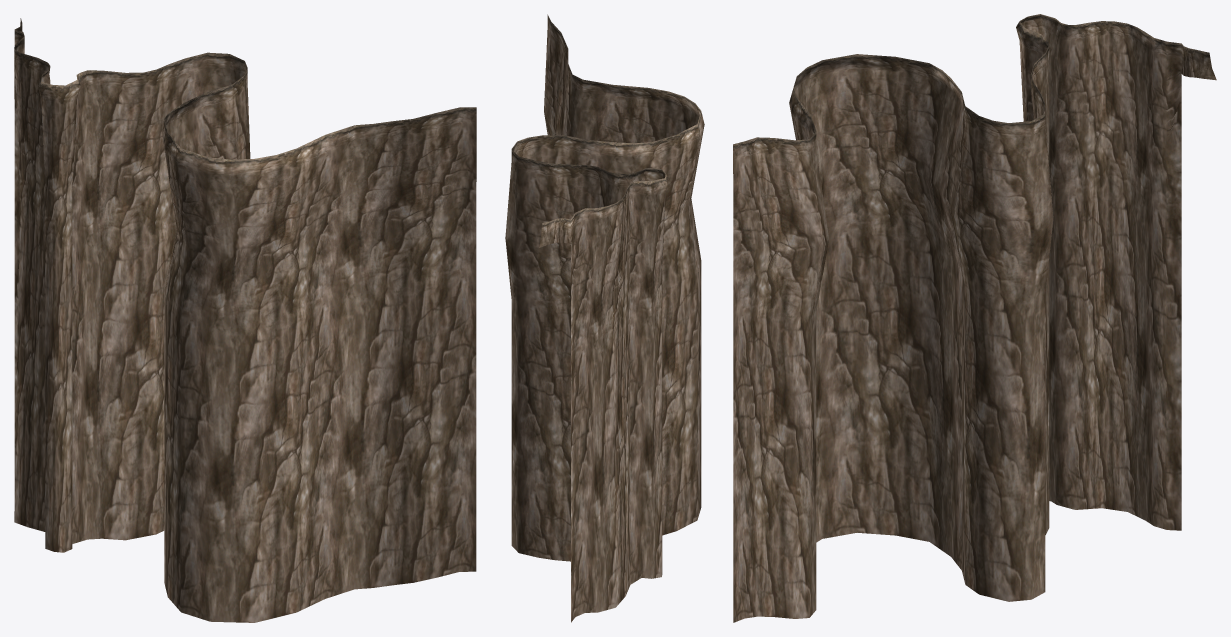
Rendered from OVERHILL_A_01_LINE109.fbx.
3 views of the same model, side by side, from view 1: azimuth 30°, elevation 25°; view 2: azimuth 150°, elevation 25°; view 3: azimuth 270°, elevation 25° (orthographic). The views are drawn at different scales.
Visible parts, largest first — view 1: OVERHILL_A_01_LINE109; view 2: OVERHILL_A_01_LINE109; view 3: OVERHILL_A_01_LINE109.
Part boxes in pixels (x1,y1,x2,y2): OVERHILL_A_01_LINE109: (14, 18, 476, 622); OVERHILL_A_01_LINE109: (505, 14, 704, 622); OVERHILL_A_01_LINE109: (733, 14, 1216, 622).
Size of the model in its own units: 151428 by 247043 by 212565.
2 materials, 2 textured.
